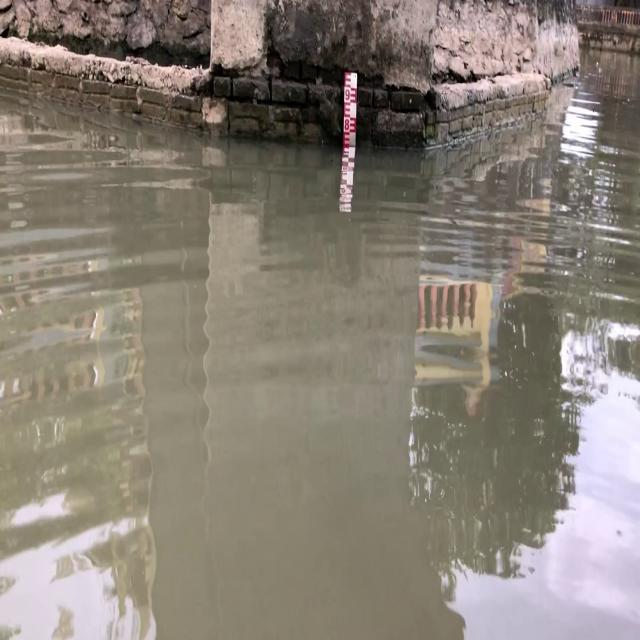ruler: (338, 66, 364, 149)
value: (342, 116, 352, 134), (343, 86, 352, 104)
